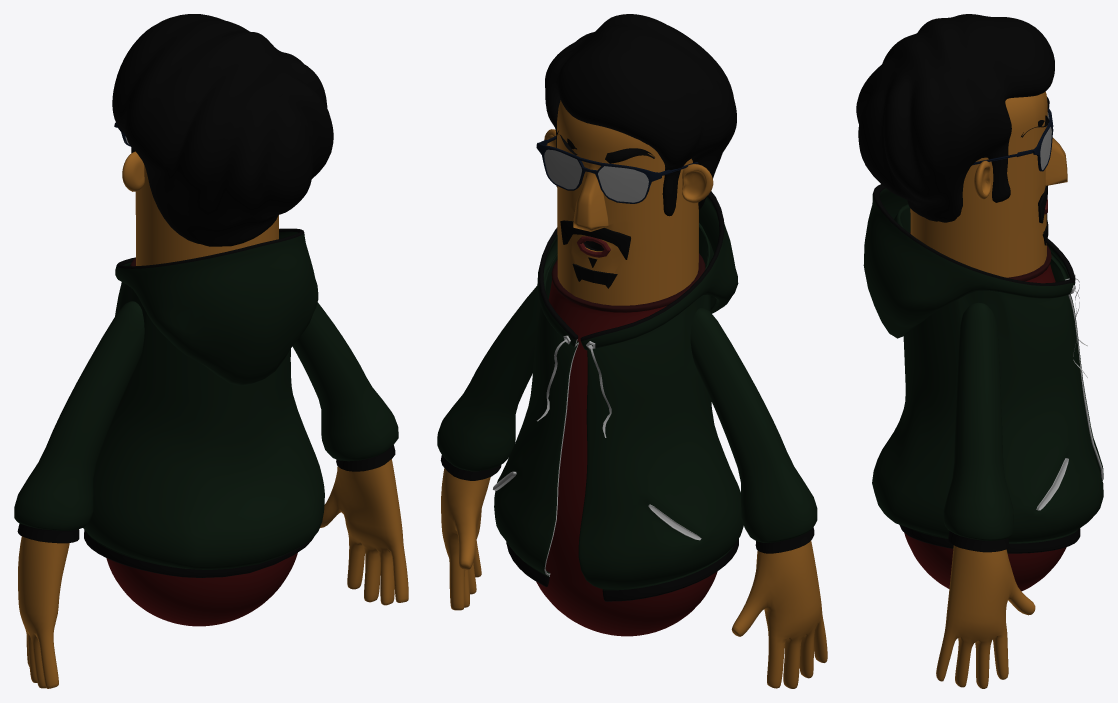
The picture shows the model from 3 angles, left to right: view 1: azimuth 30°, elevation 25°; view 2: azimuth 150°, elevation 25°; view 3: azimuth 270°, elevation 25°; orthographic projection. The views are drawn at different scales.
Visible parts, largest first — view 1: Ed_body ED Ed_houdy, Ed_body ED Ed_head Ed_hair, Ed_body ED Ed_houdy_arm_R, Ed_body ED Ed_houdy_arm_L, Ed_body ED Ed_houdy_arm_L Ed_arm_L, Ed_body ED, Ed_body ED Ed_houdy_arm_R Ed_arm_R, Ed_body ED Ed_head, Ed_body ED Ed_head Ed_ear_R; view 2: Ed_body ED Ed_houdy, Ed_body ED Ed_head Ed_hair, Ed_body ED Ed_head, Ed_body ED, Ed_body ED Ed_houdy_arm_R, Ed_body ED Ed_houdy_arm_L, Ed_body ED Ed_houdy_arm_R Ed_arm_R, Ed_body ED Ed_houdy_arm_L Ed_arm_L, Ed_body ED Ed_head Ed_glasses Ed_glasses_transp, Ed_body ED Ed_head Ed_glasses, Ed_body ED Ed_head Ed_ear_R, Ed_body ED Ed_head Ed_mustache_01; view 3: Ed_body ED Ed_houdy, Ed_body ED Ed_head Ed_hair, Ed_body ED Ed_head, Ed_body ED Ed_houdy_arm_L, Ed_body ED Ed_houdy_arm_L Ed_arm_L, Ed_body ED, Ed_body ED Ed_head Ed_glasses, Ed_body ED Ed_head Ed_ear_L.
Boxes of the visible parts, box(x1,y1,x2,y2) form: Ed_body ED Ed_houdy: box(83, 228, 324, 577); Ed_body ED Ed_head Ed_hair: box(112, 14, 333, 246); Ed_body ED Ed_houdy_arm_R: box(14, 301, 144, 543); Ed_body ED Ed_houdy_arm_L: box(292, 302, 398, 471); Ed_body ED Ed_houdy_arm_L Ed_arm_L: box(320, 459, 408, 605); Ed_body ED: box(106, 257, 297, 626); Ed_body ED Ed_houdy_arm_R Ed_arm_R: box(18, 536, 69, 688); Ed_body ED Ed_head: box(135, 165, 278, 265); Ed_body ED Ed_head Ed_ear_R: box(122, 151, 144, 191); Ed_body ED Ed_houdy: box(492, 191, 743, 601); Ed_body ED Ed_head Ed_hair: box(545, 14, 736, 216); Ed_body ED Ed_head: box(557, 100, 698, 305); Ed_body ED: box(536, 253, 717, 636); Ed_body ED Ed_houdy_arm_R: box(690, 308, 817, 553); Ed_body ED Ed_houdy_arm_L: box(437, 286, 549, 480); Ed_body ED Ed_houdy_arm_R Ed_arm_R: box(731, 540, 827, 688); Ed_body ED Ed_houdy_arm_L Ed_arm_L: box(441, 468, 490, 610); Ed_body ED Ed_head Ed_glasses Ed_glasses_transp: box(544, 149, 650, 202); Ed_body ED Ed_head Ed_glasses: box(536, 136, 698, 203); Ed_body ED Ed_head Ed_ear_R: box(682, 164, 713, 203); Ed_body ED Ed_head Ed_mustache_01: box(560, 220, 630, 259); Ed_body ED Ed_houdy: box(863, 184, 1103, 553); Ed_body ED Ed_head Ed_hair: box(856, 14, 1054, 222); Ed_body ED Ed_head: box(910, 91, 1067, 277); Ed_body ED Ed_houdy_arm_L: box(943, 302, 1013, 552); Ed_body ED Ed_houdy_arm_L Ed_arm_L: box(936, 545, 1035, 688); Ed_body ED: box(904, 232, 1066, 591); Ed_body ED Ed_head Ed_glasses: box(972, 108, 1053, 171); Ed_body ED Ed_head Ed_ear_L: box(974, 160, 990, 199).
Size of the model in its own units: 7.45 by 11.71 by 4.46.
